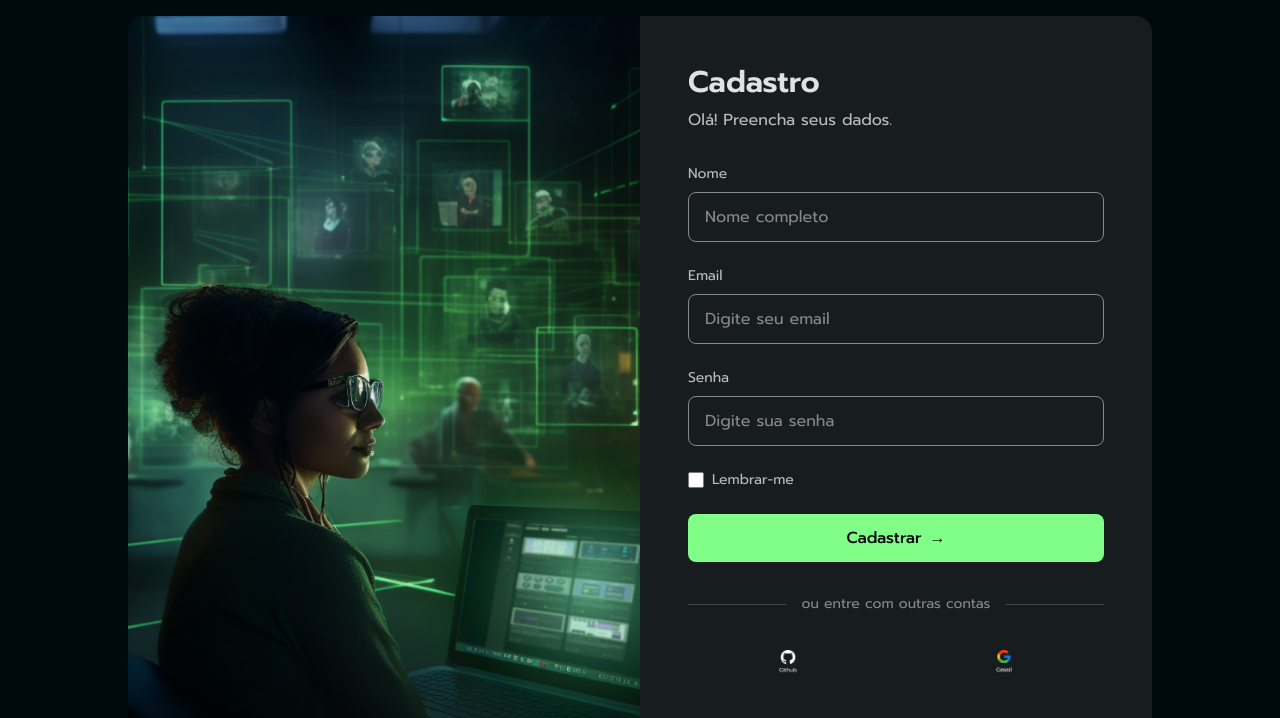
RegisterPage › disables the submit button while the request is pending
Step 1. Type "Ana Silva" into the field labelled "Nome" → (896, 217), box x1=688 y1=192 x2=1104 y2=242
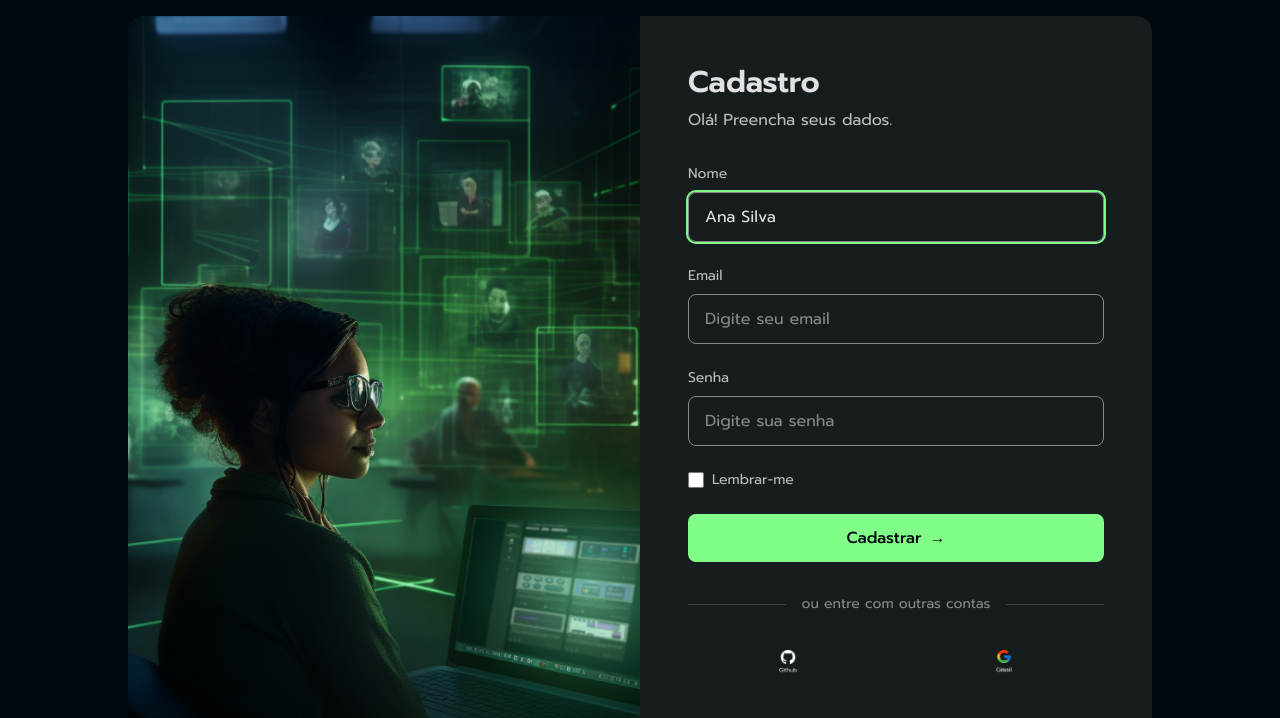
Step 2. Type "ana@code.com" into the field labelled "Email" → (896, 319), box x1=688 y1=294 x2=1104 y2=344
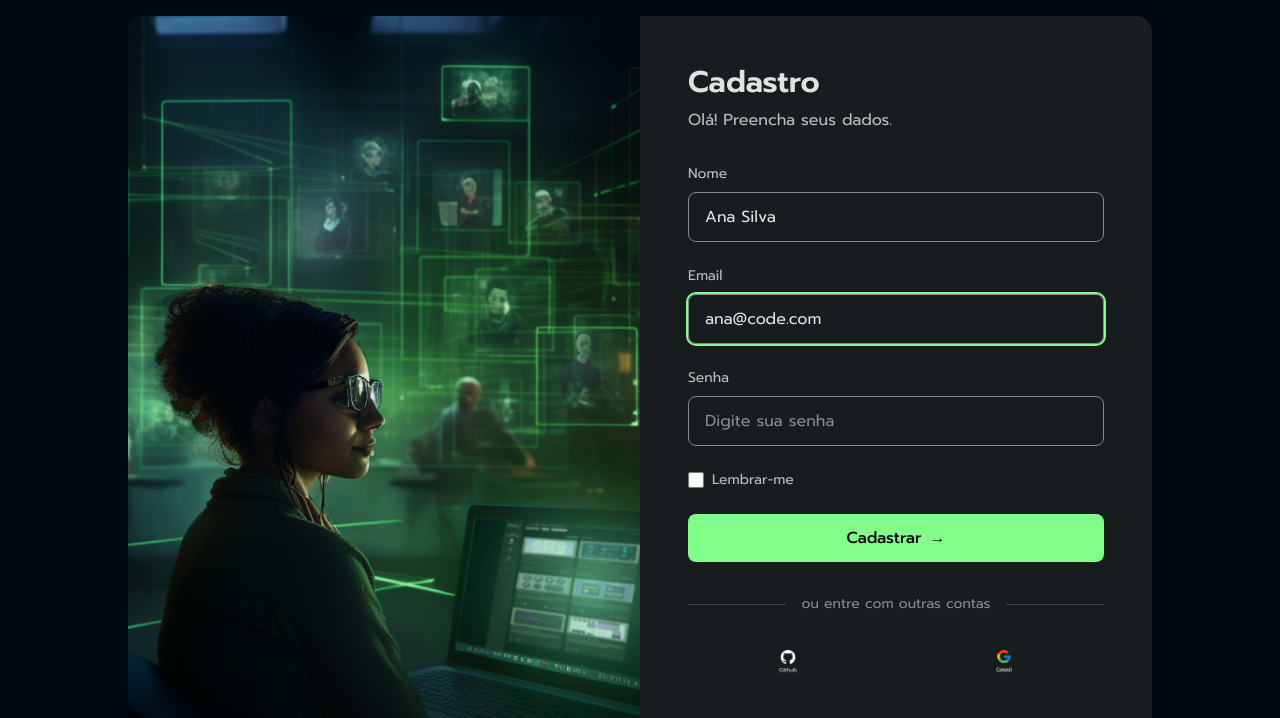
Step 3. Type "segredo123" into the password field labelled "Senha" → (896, 421), box x1=688 y1=396 x2=1104 y2=446
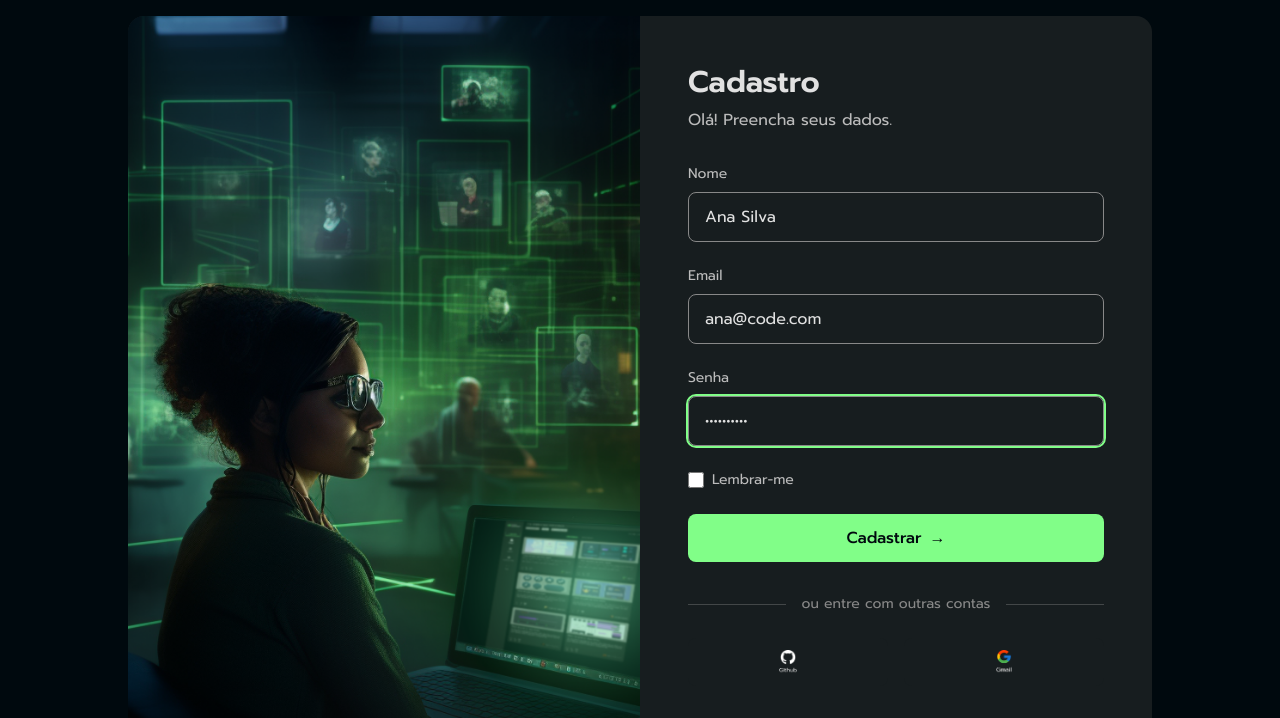
Step 4. Click the button "Cadastrar →" → (896, 538), box x1=688 y1=514 x2=1104 y2=562
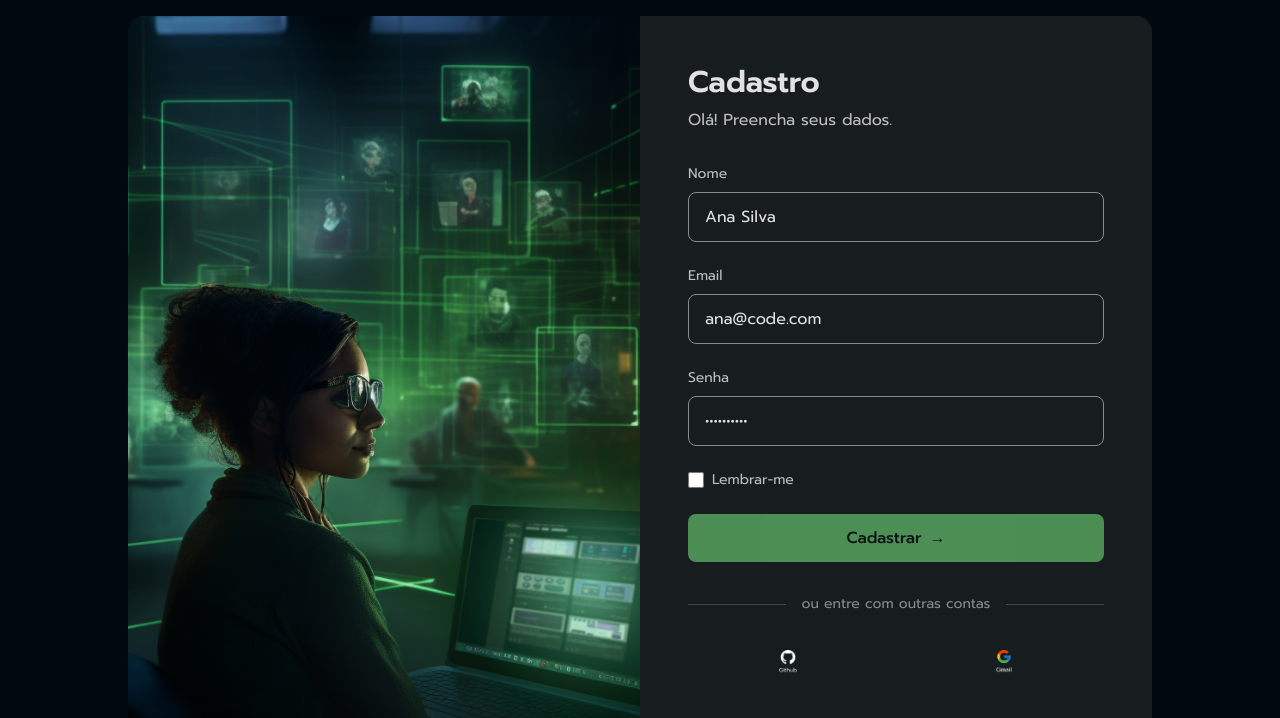
Expected: the button "Cadastrar →" is disabled, x1=688 y1=514 x2=1104 y2=562
